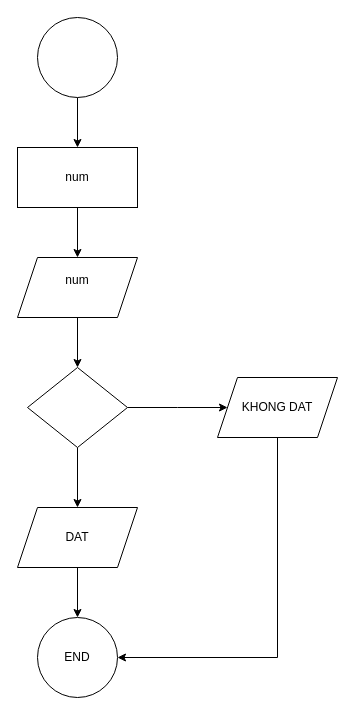
Some shapes in this 355 by 715 pixel diagram are drawn without their labels. Each missing label, with the box of its shape:
num >=5: (26, 366, 128, 448)
START: (36, 16, 118, 98)
